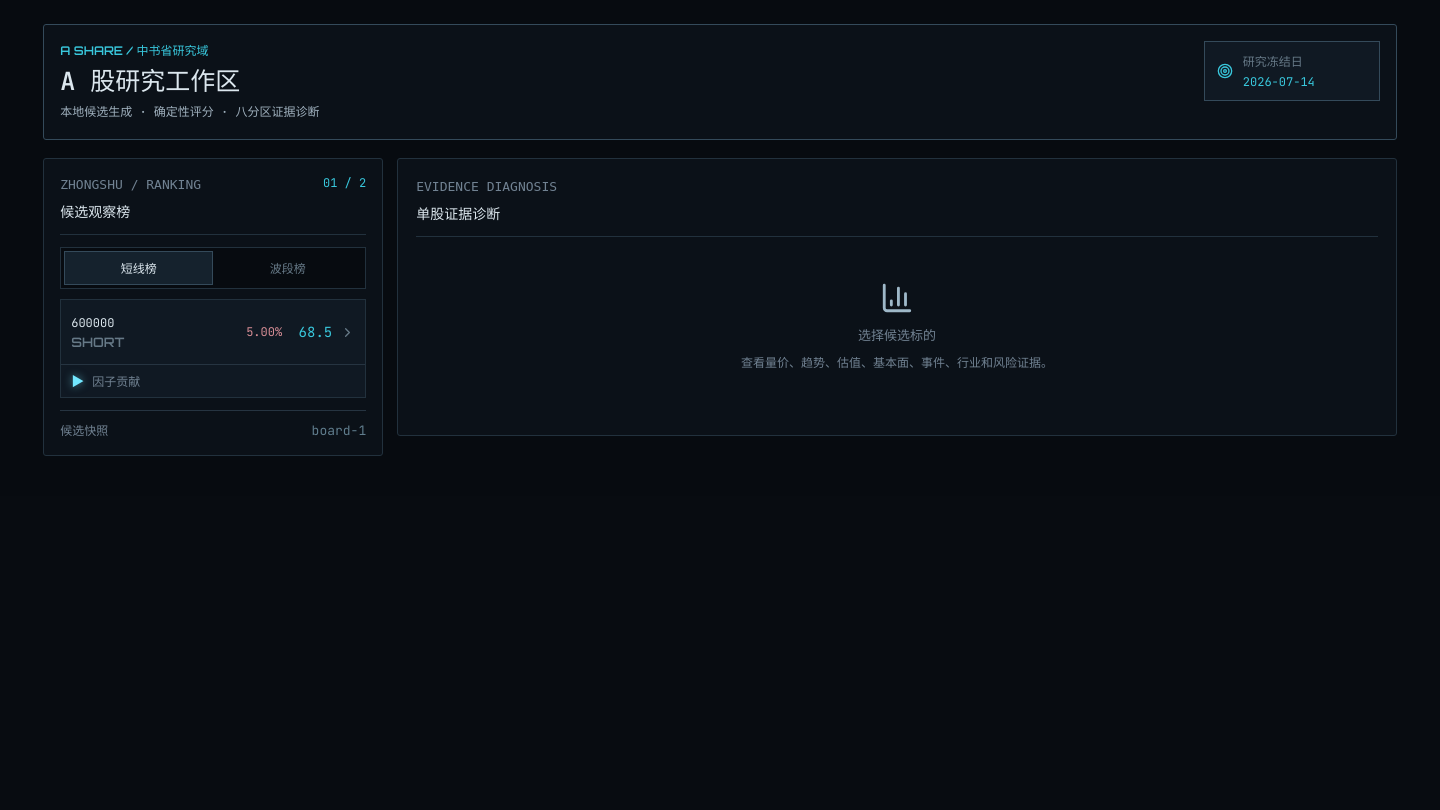
Scenario: AShareResearchView › shows the exact immutable evidence ids under their own sources
The width and height of the screenshot is (1440, 810).
Click the button "600000 SHORT 5.00% 68.5" at (93, 323), box [61, 300, 365, 364]
(page scrolled)
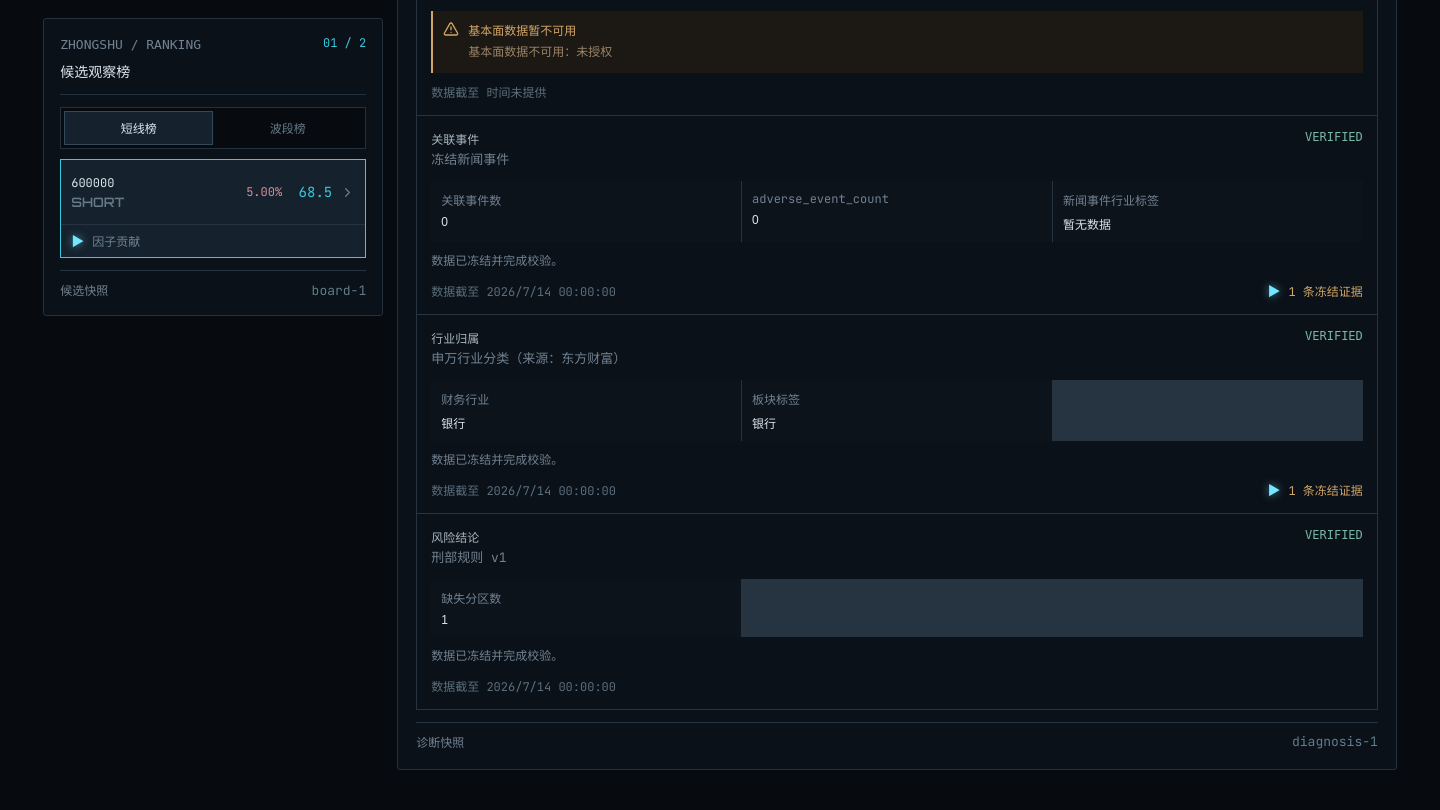
Check: the text "行业归属" is shown, box [431, 331, 479, 347]
Check: the text "关联事件" is shown, box [431, 132, 479, 148]
Click the 2nd heading "1 条冻结证据" at (1315, 490), box [1267, 481, 1363, 499]
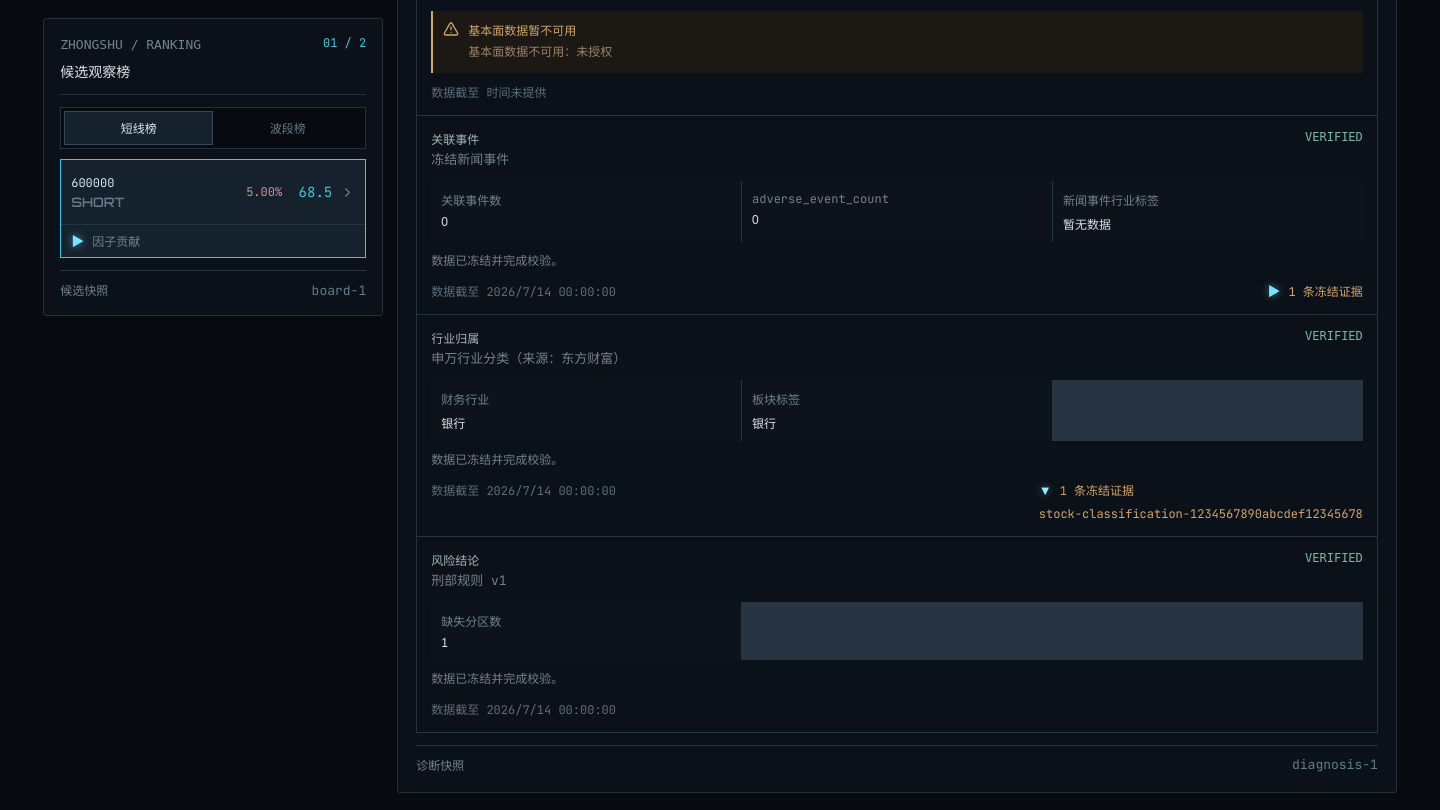
Click the heading "1 条冻结证据" below "暂无数据" at (1315, 291), box [1267, 282, 1363, 300]
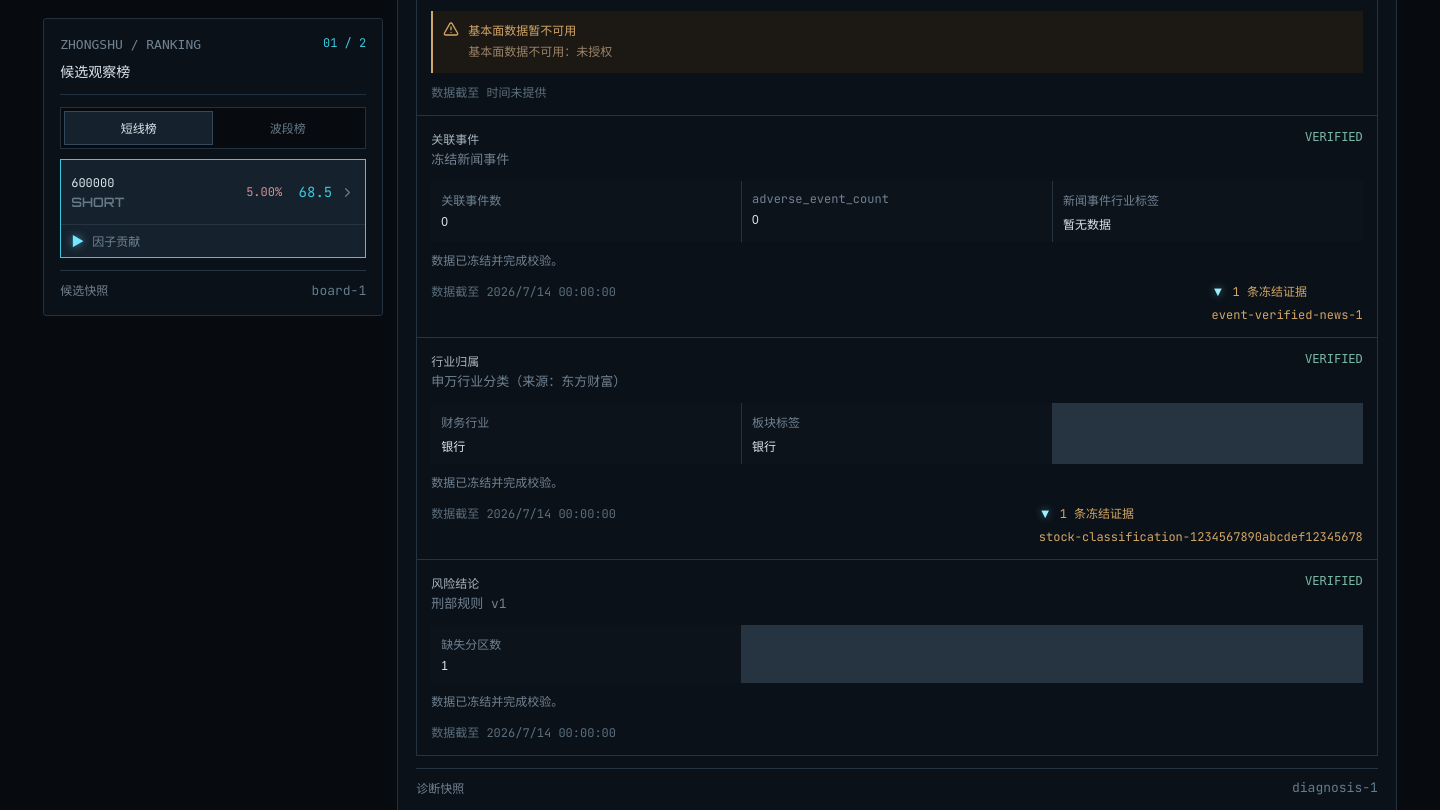
Check: the text "stock-classification-1234567890abcdef12345678" is shown, box [1039, 529, 1363, 545]
Check: the text "event-verified-news-1" is shown, box [1212, 307, 1363, 323]
